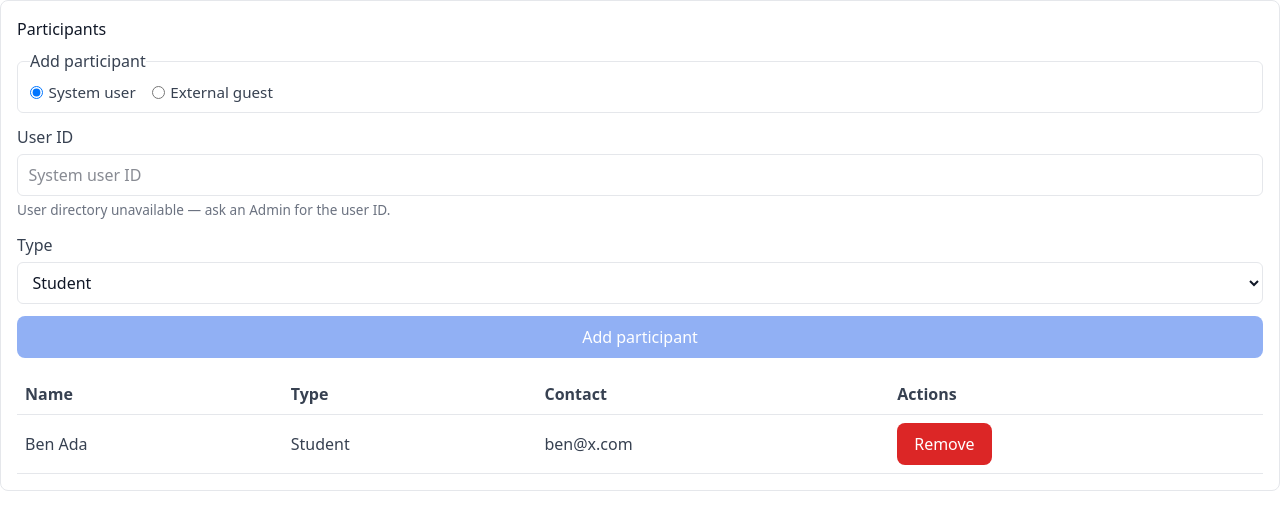
Scenario: ParticipantsSection › removes a participant and refreshes the roster
The image size is (1280, 508).
Expected: the row with test id "participant-row-p1" is shown, x1=17 y1=414 x2=1263 y2=473
Click the button with test id "participant-remove-p1" at (944, 444), box x1=897 y1=423 x2=992 y2=465
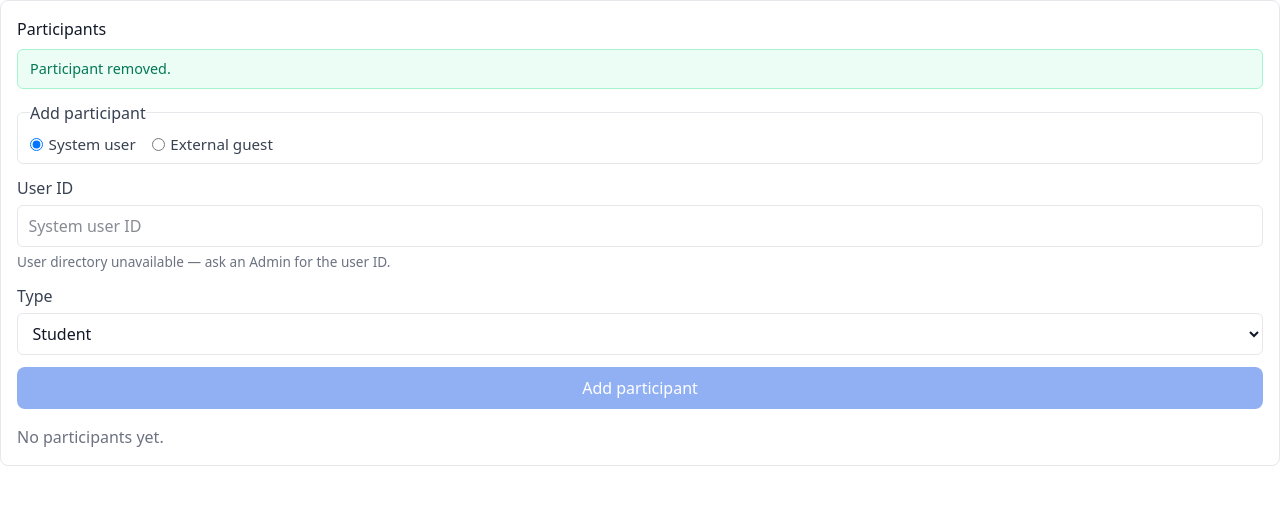
Expected: the message with test id "participants-notice" shows "removed", x1=30 y1=59 x2=171 y2=78
Expected: the text "No participants yet." is shown, x1=17 y1=426 x2=164 y2=448
